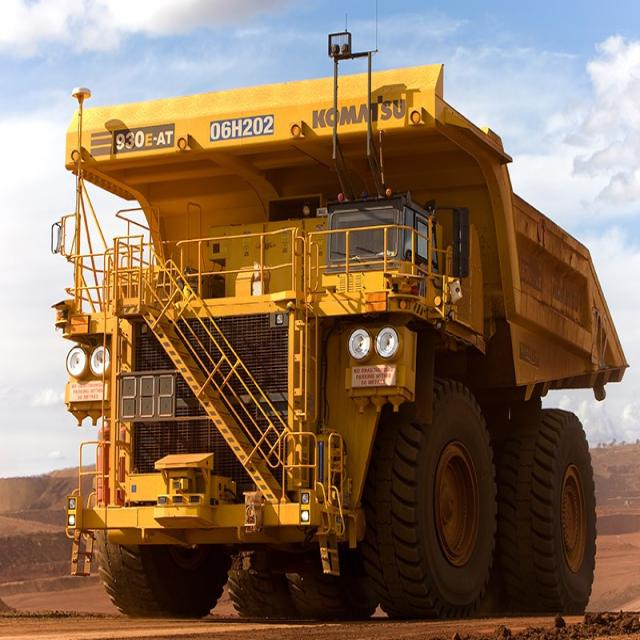dump_truck: (57, 72, 618, 611)
